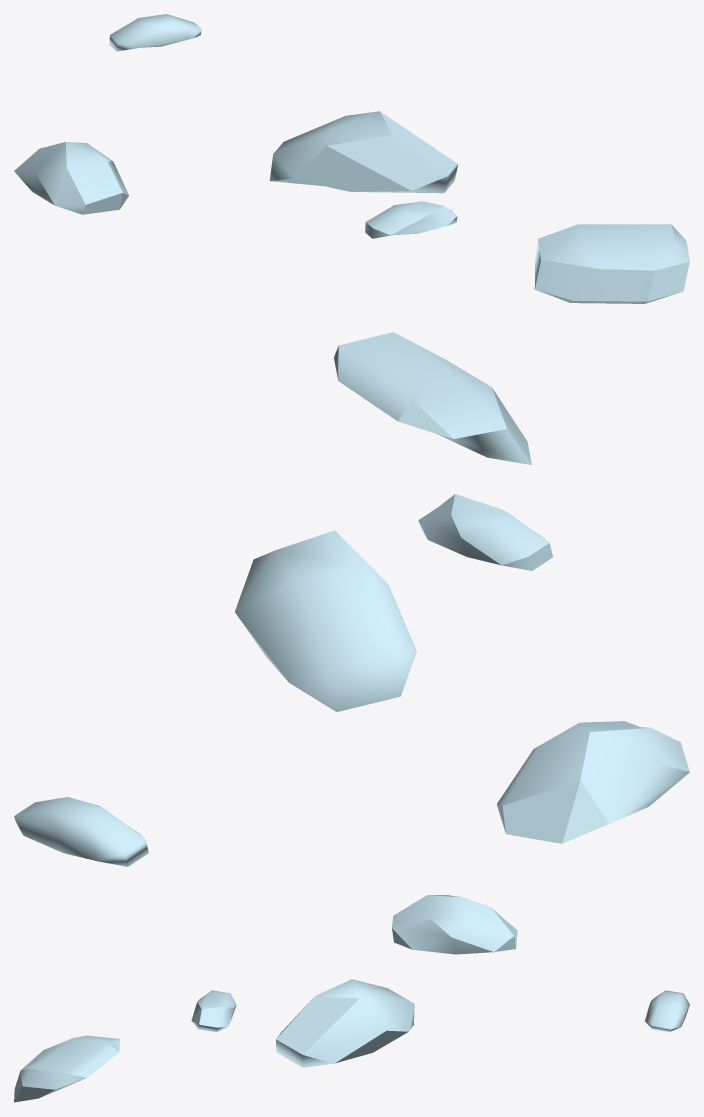
Rendered from Rocks.fbx.
The picture shows the model from 3 angles, top to bottom: view 1: azimuth 30°, elevation 25°; view 2: azimuth 150°, elevation 25°; view 3: azimuth 270°, elevation 25°; orthographic projection. The views are drawn at different scales.
Parts seen in each view (by area): view 1: pierres; view 2: pierres; view 3: pierres.
Part boxes in pixels (x1,y1,x2,y2): pierres: (14, 14, 689, 303); pierres: (14, 332, 689, 866); pierres: (14, 895, 689, 1102).
Bounding box in the file's own units: 46.43 × 7.43 × 71.46.
